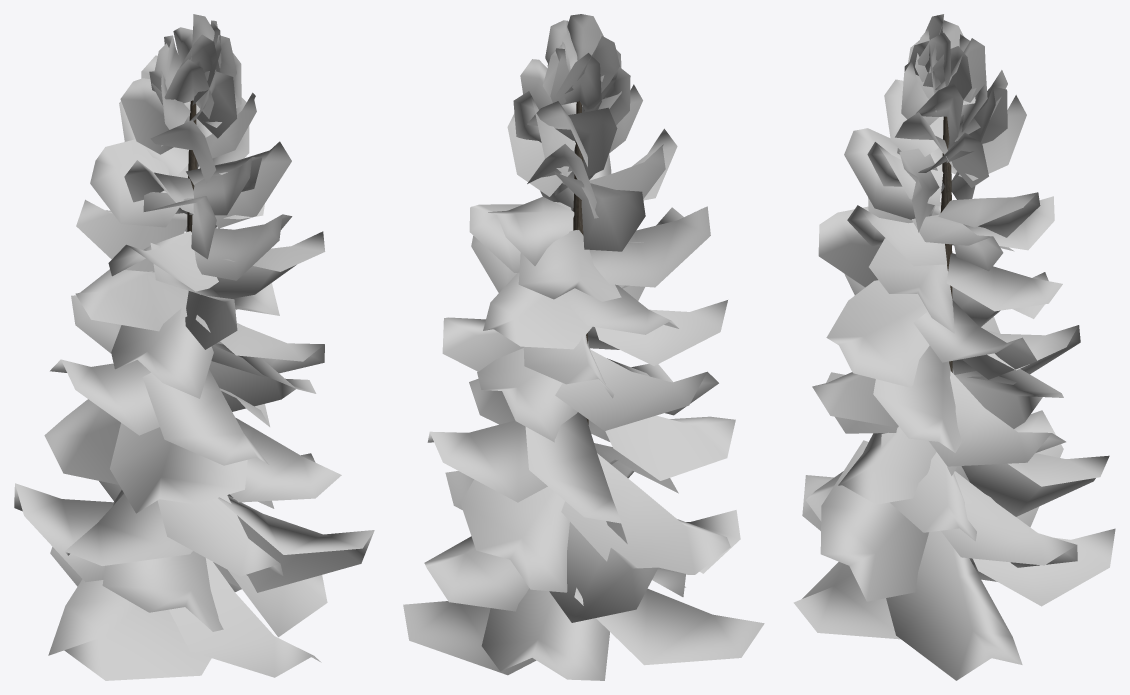
Rendered from elka.gltf.
3 views of the same model, side by side, from view 1: azimuth 30°, elevation 25°; view 2: azimuth 150°, elevation 25°; view 3: azimuth 270°, elevation 25° (orthographic). The views are drawn at different scales.
Parts seen in each view (by area): view 1: SM_AlaskaCedar_17_StaticMeshComponent0; view 2: SM_AlaskaCedar_17_StaticMeshComponent0; view 3: SM_AlaskaCedar_17_StaticMeshComponent0.
Boxes of the visible parts, <box> form: SM_AlaskaCedar_17_StaticMeshComponent0: <box>14,14,374,680</box>; SM_AlaskaCedar_17_StaticMeshComponent0: <box>403,14,764,680</box>; SM_AlaskaCedar_17_StaticMeshComponent0: <box>793,14,1115,680</box>.
Size of the model in its own units: 9.67 by 19.24 by 9.23.
